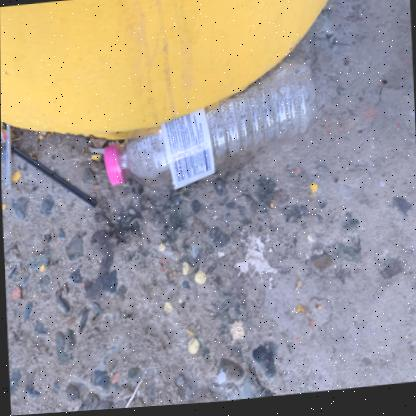Plastic: (103, 67, 315, 194), (10, 145, 97, 209), (5, 124, 10, 191)
Waste: (103, 146, 120, 188)
